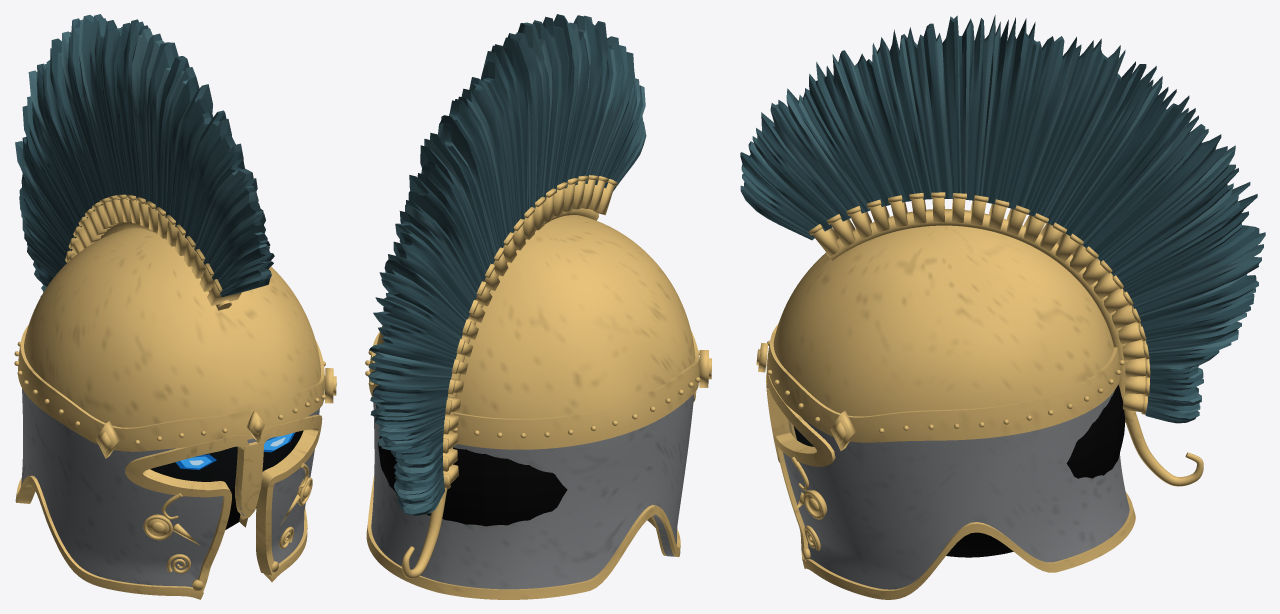
File: avatar-casco.glb
3 views of the same model, side by side, from view 1: azimuth 30°, elevation 25°; view 2: azimuth 150°, elevation 25°; view 3: azimuth 270°, elevation 25° (orthographic). The views are drawn at different scales.
Visible parts, largest first — view 1: Casco, Cresta, Interior; view 2: Casco, Cresta, Interior; view 3: Casco, Cresta, Interior.
Boxes of the visible parts, <box> form: Casco: <box>14,194,336,599</box>; Cresta: <box>15,14,274,296</box>; Interior: <box>150,433,293,529</box>; Casco: <box>365,175,711,599</box>; Cresta: <box>368,14,646,515</box>; Interior: <box>378,436,567,526</box>; Casco: <box>756,192,1203,599</box>; Cresta: <box>740,15,1265,423</box>; Interior: <box>946,384,1125,557</box>.
Bounding box in the file's own units: 1.99 × 3.57 × 3.18.
